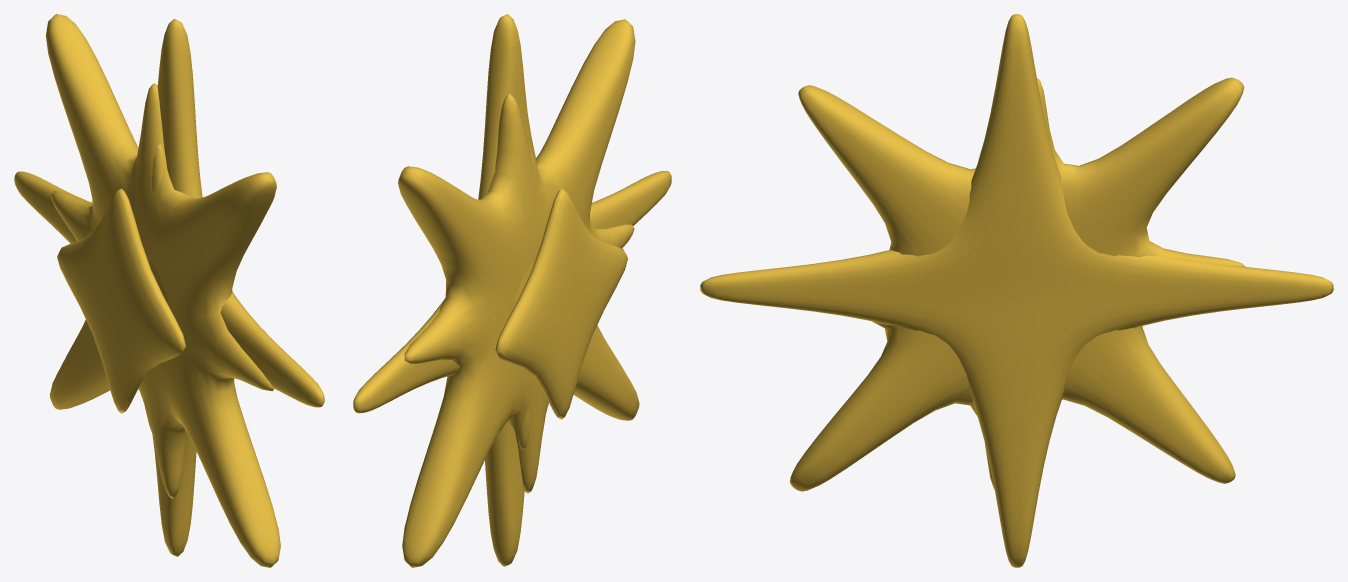
Rendered from stars.fbx.
3 views of the same model, side by side, from view 1: azimuth 30°, elevation 25°; view 2: azimuth 150°, elevation 25°; view 3: azimuth 270°, elevation 25° (orthographic). The views are drawn at different scales.
Parts seen in each view (by area): view 1: star4, star1, star5, star3; view 2: star4, star5, star1, star3; view 3: star1, star4.
Part boxes in pixels (<box>): star4: <box>46,14,280,567</box>; star1: <box>14,19,324,556</box>; star5: <box>57,188,185,413</box>; star3: <box>143,144,169,432</box>; star4: <box>398,19,639,567</box>; star5: <box>495,188,627,419</box>; star1: <box>353,14,671,566</box>; star3: <box>512,143,539,449</box>; star1: <box>700,14,1333,567</box>; star4: <box>789,77,1245,491</box>.
Bounding box in the file's own units: 70.3 × 460 × 476.
